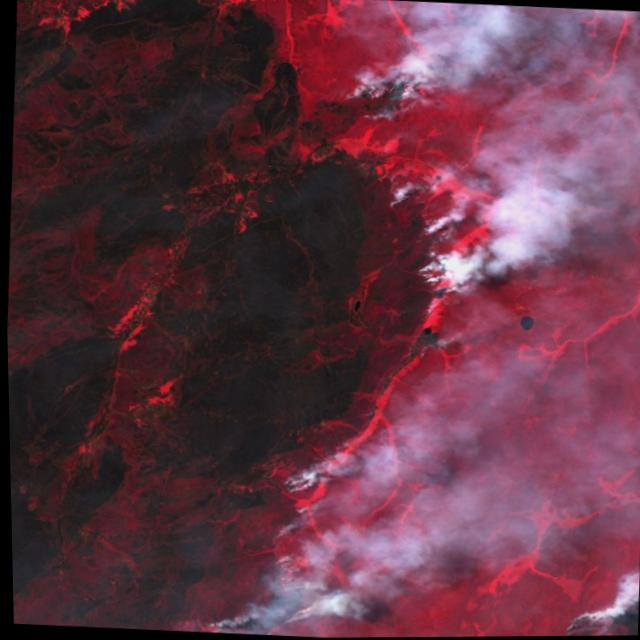fire: (298, 71, 485, 371), (171, 451, 332, 638), (555, 599, 636, 637)
